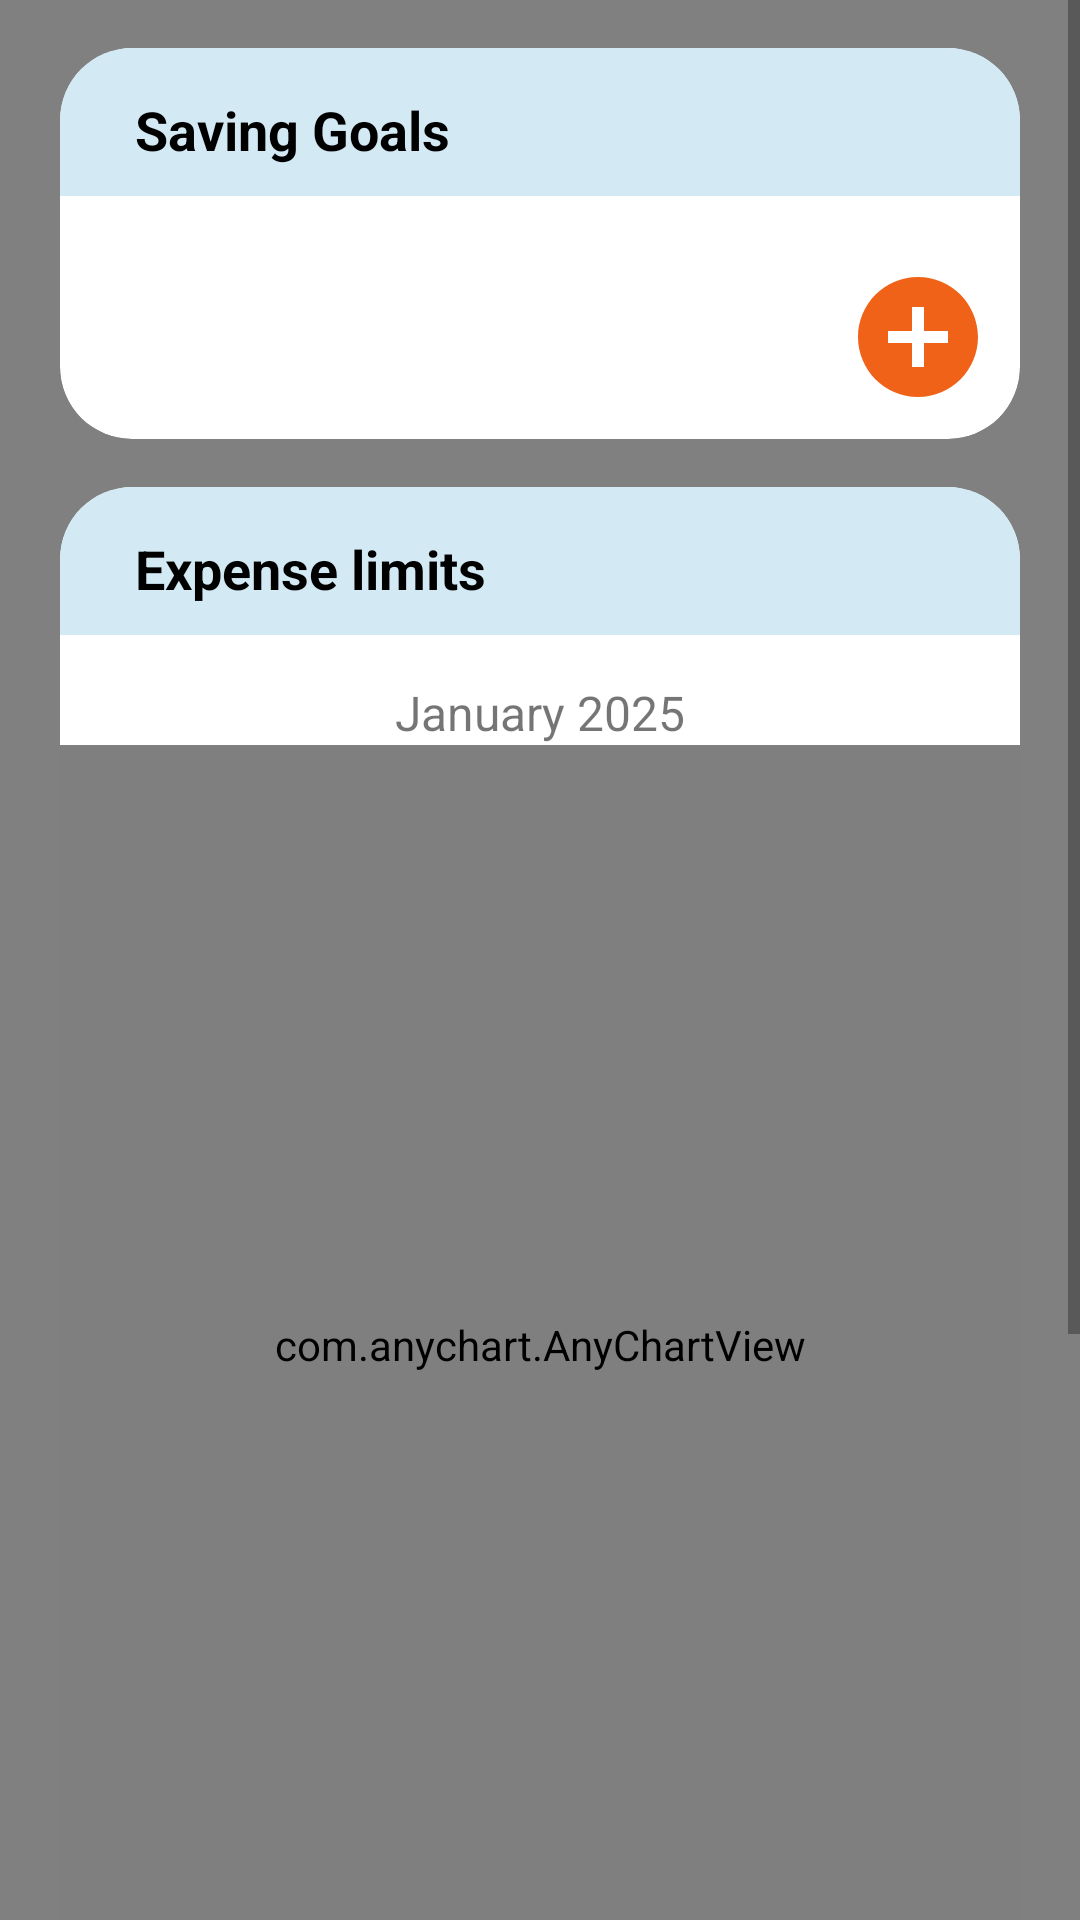

Icon click points for this 1080px×1920px phone screenshot, format point (x, y):
Add goal: point (918, 337)
